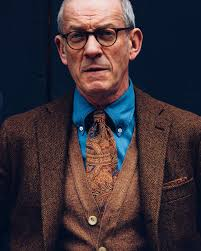Glasses: (54, 26, 132, 47)
